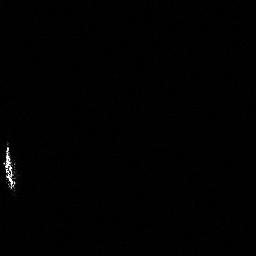ship: (1, 141, 21, 194)
